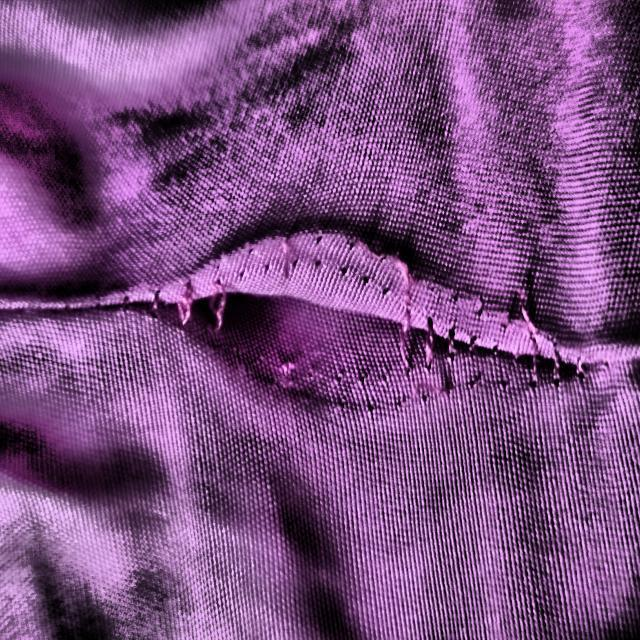cut: (121, 192, 584, 450)
